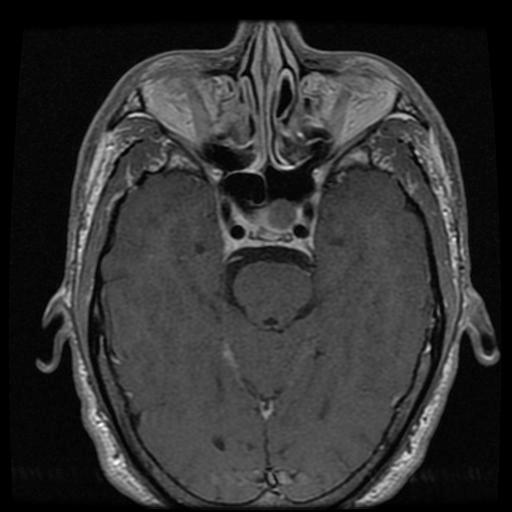Tumour-Pituitary: (220, 195, 321, 262)
